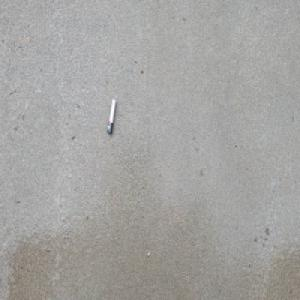Battery: (107, 98, 117, 135)
